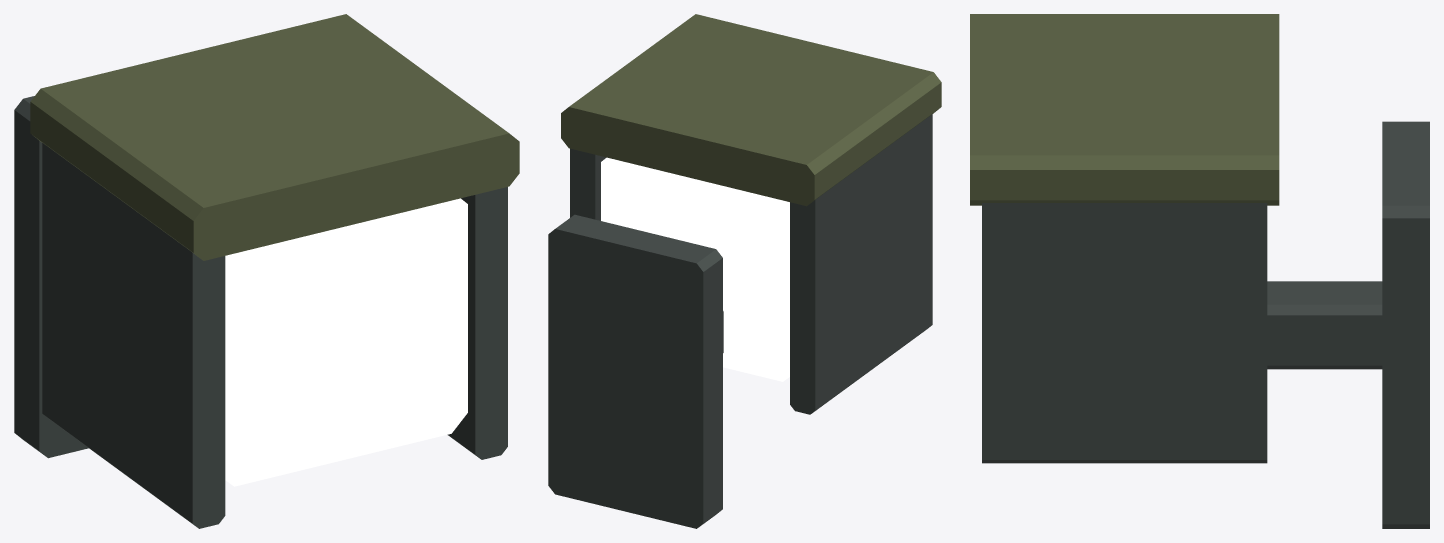
File: WallLamp.gltf
3 views of the same model, side by side, from view 1: azimuth 30°, elevation 25°; view 2: azimuth 150°, elevation 25°; view 3: azimuth 270°, elevation 25° (orthographic). The views are drawn at different scales.
Visible parts, largest first — view 1: WallLamp; view 2: WallLamp; view 3: WallLamp.
Boxes of the visible parts, <box> form: WallLamp: <box>14,14,519,528</box>; WallLamp: <box>548,14,941,528</box>; WallLamp: <box>970,14,1429,528</box>.
Size of the model in its own units: 0.09 by 0.112 by 0.116.
